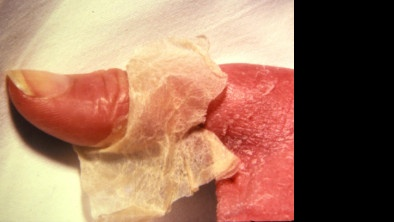SJS-TEN: (66, 22, 296, 222)
